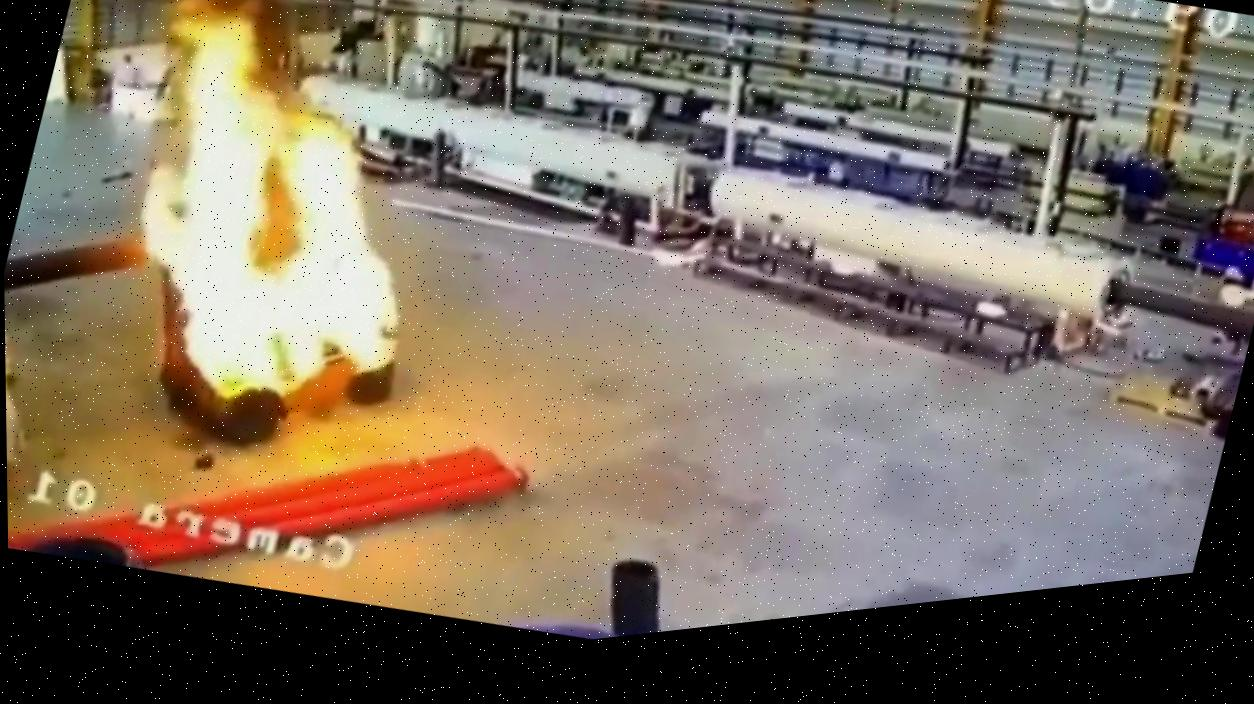fire: (105, 13, 416, 436)
